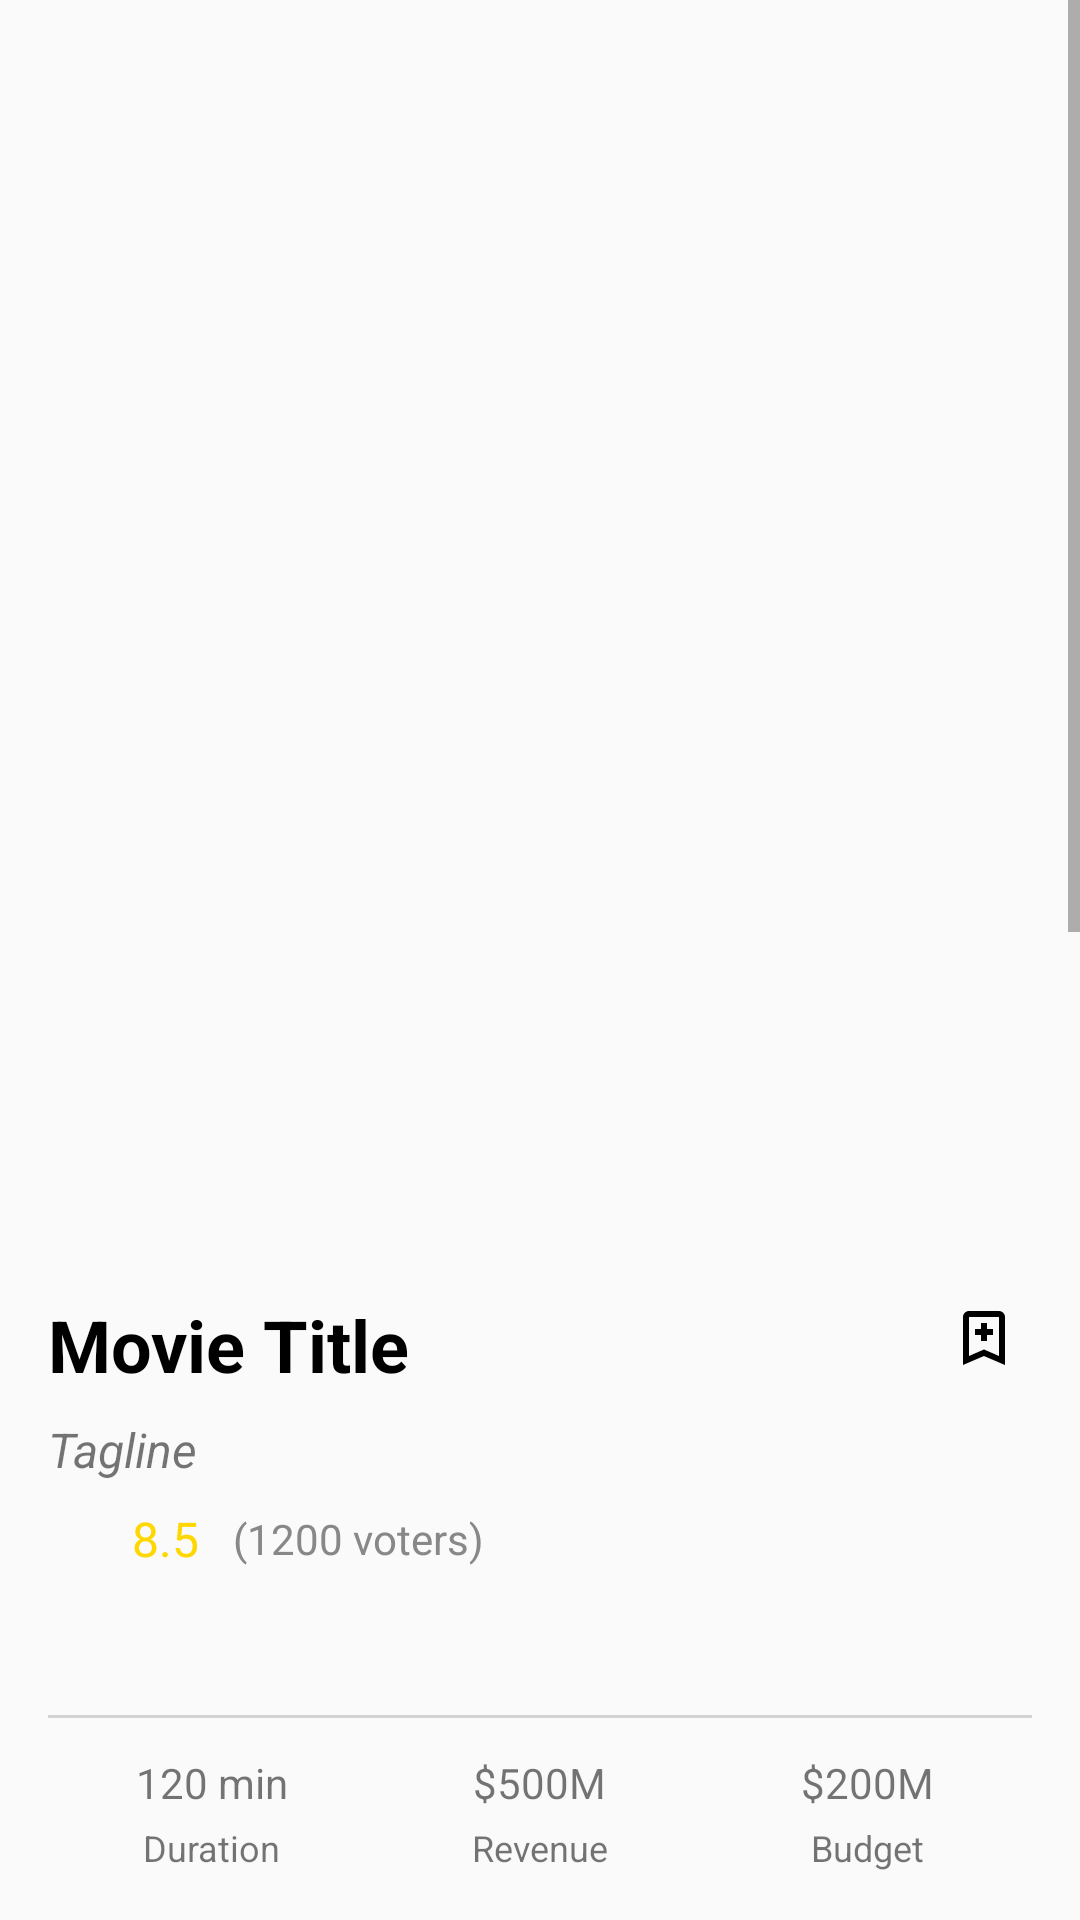

Where icons sit on this 1080×1920 app screen, as (x1, y1, x2, y2):
Bookmark: (963, 1311, 1005, 1365)
